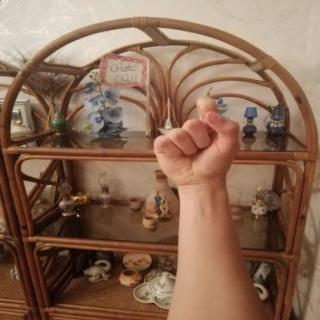FAA: (146, 89, 250, 193)
